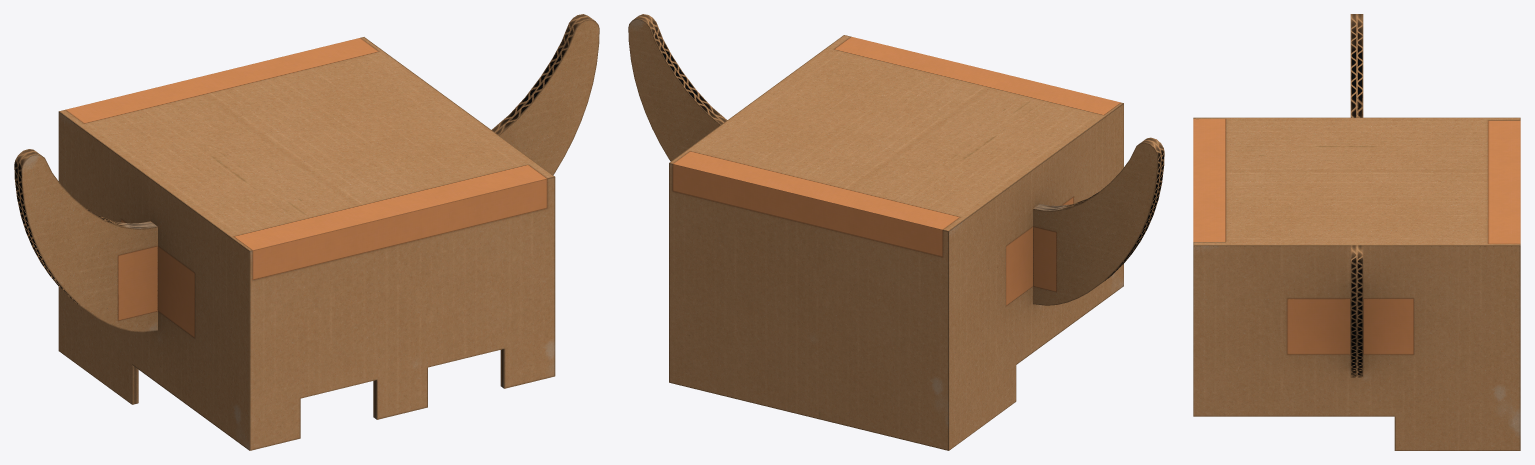
Rendered from cardboard_helm.glb.
3 views of the same model, side by side, from view 1: azimuth 30°, elevation 25°; view 2: azimuth 150°, elevation 25°; view 3: azimuth 270°, elevation 25° (orthographic). The views are drawn at different scales.
Visible parts, largest first — view 1: cardboard_helm; view 2: cardboard_helm; view 3: cardboard_helm.
Part boxes in pixels (box(x1,y1,x2,y2)): cardboard_helm: box(14, 14, 599, 450); cardboard_helm: box(628, 14, 1164, 450); cardboard_helm: box(1193, 14, 1520, 450).
Bounding box in the file's own units: 0.4541 × 0.2245 × 0.26.
1 material, 1 textured.
